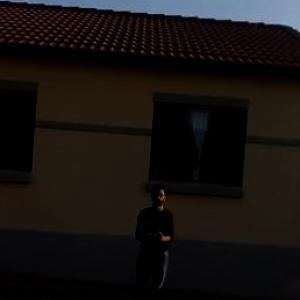follow: (127, 177, 173, 299)
